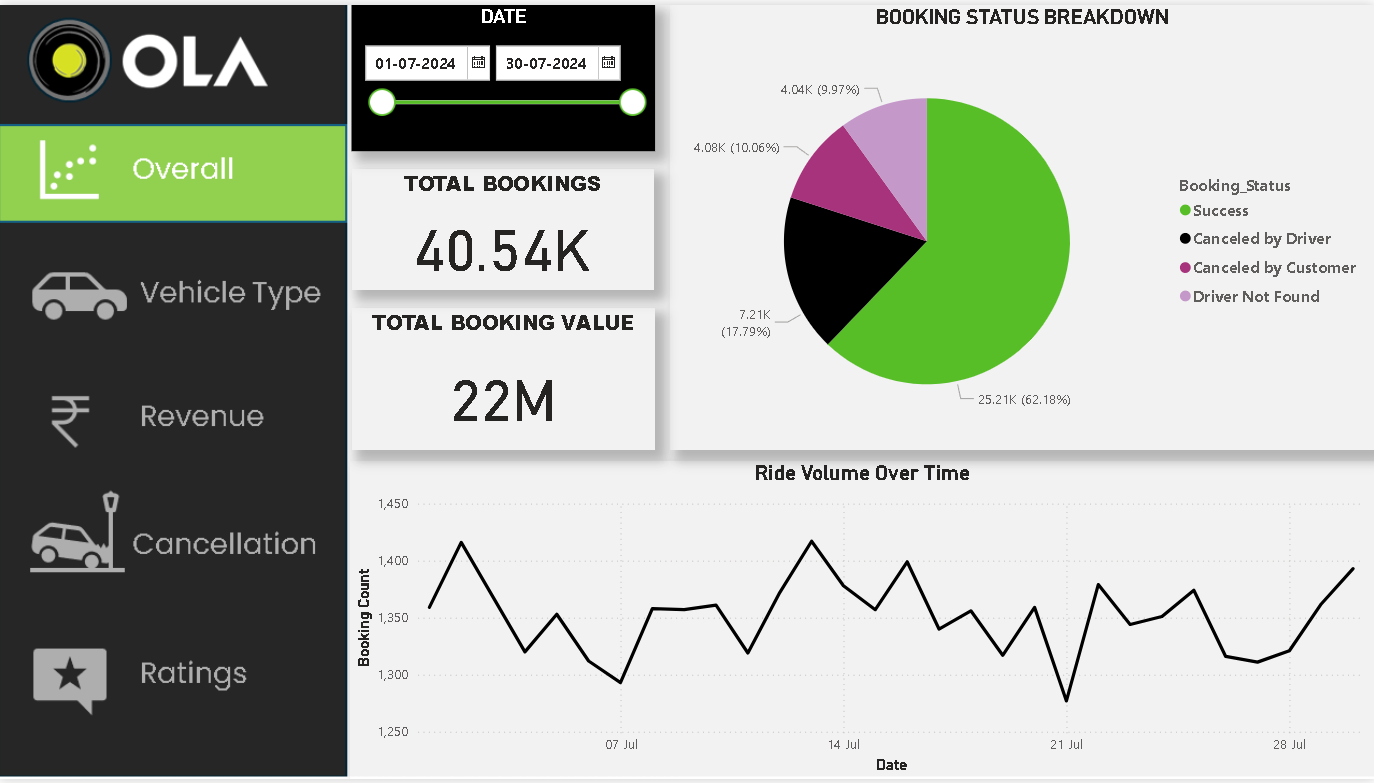

The page's visual inventory and layout, read from the dashboard file:
{"tool":"powerbi","page":{"name":"Overall ","canvas":[1280,720],"ordinal":0},"visuals":[{"type":"lineChart","title":"Ride Volume Over Time","fields":{"Y":["CountNonNull(July.Booking_ID)"],"Category":["July.Date.Variation.Date Hierarchy.Year","July.Date.Variation.Date Hierarchy.Quarter","July.Date.Variation.Date Hierarchy.Month","July.Date.Variation.Date Hierarchy.Day"]},"box":[326.9,424.7,953.1,295.6],"z":0},{"type":"pieChart","title":"BOOKING STATUS BREAKDOWN","fields":{"Y":["CountNonNull(July.Booking_Status)"],"Category":["July.Booking_Status"]},"box":[624.4,0,655.9,414.4],"z":1000},{"type":"slicer","title":"DATE","fields":{"Values":["July.Date"]},"box":[328,0,282.7,135.8],"z":2000},{"type":"card","title":"TOTAL BOOKING VALUE","fields":{"Values":["Sum(July.Booking_Value)"]},"box":[328,281.3,282.7,133.1],"z":3000},{"type":"card","title":"TOTAL BOOKINGS ","fields":{"Values":["Count(July.Booking_ID)"]},"box":[328,152.3,281.3,112.5],"z":4000},{"type":"actionButton","box":[0,573.1,326.9,98.9],"z":5000},{"type":"actionButton","box":[0,336.6,326.9,98.9],"z":6000},{"type":"actionButton","box":[0,447.6,326.9,98.9],"z":7000},{"type":"actionButton","box":[0,223.2,326.9,98.9],"z":8000}]}

Visuals, with their boxes in screenshot pixels (x1, y1, x2, y2), scaled from the page's 1280x720 canvas onto the 1374x783 screenshot:
"Ride Volume Over Time" lineChart: 351/462/1373/782
"BOOKING STATUS BREAKDOWN" pieChart: 670/0/1373/451
"DATE" slicer: 352/0/656/148
"TOTAL BOOKING VALUE" card: 352/306/656/451
"TOTAL BOOKINGS " card: 352/166/654/288
actionButton: 0/623/351/731
actionButton: 0/366/351/474
actionButton: 0/487/351/594
actionButton: 0/243/351/350
